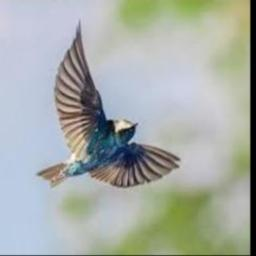Swallow: (35, 18, 181, 190)
